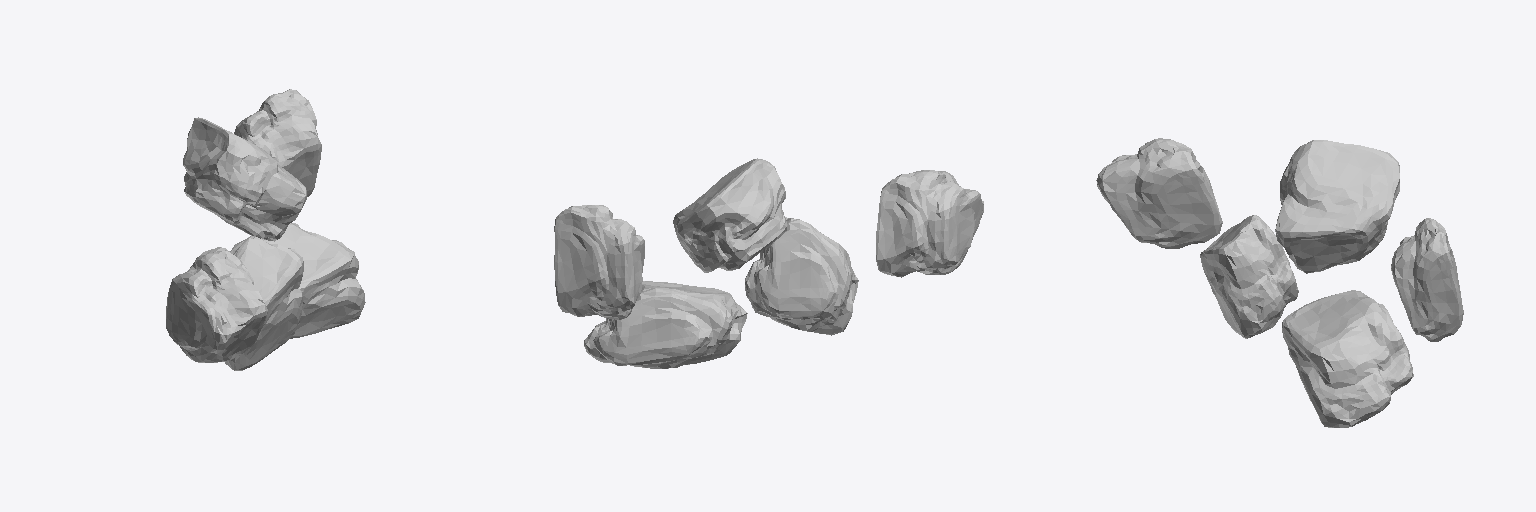
Rendered from tail.obj.
The picture shows the model from 3 angles: view 1: azimuth 30°, elevation 25°; view 2: azimuth 150°, elevation 25°; view 3: azimuth 270°, elevation 25°; orthographic projection.
Parts seen in each view (by area): view 1: rock.003, rock, rock.002, rock.004, rock.001; view 2: rock.002, rock, rock.004, rock.001, rock.003; view 3: rock.003, rock.002, rock, rock.004, rock.001.
Part boxes in pixels (x1,y1,x2,y2): rock.003: (183, 117, 306, 241); rock: (166, 247, 267, 362); rock.002: (230, 223, 365, 338); rock.004: (225, 236, 303, 370); rock.001: (234, 89, 321, 196); rock.002: (584, 281, 747, 368); rock: (876, 170, 983, 277); rock.004: (745, 217, 858, 335); rock.001: (554, 205, 644, 319); rock.003: (673, 158, 786, 272); rock.003: (1275, 140, 1399, 273); rock.002: (1282, 290, 1413, 427); rock: (1096, 138, 1222, 248); rock.004: (1200, 215, 1298, 338); rock.001: (1391, 218, 1463, 341).
Size of the model in its own units: 34.33 by 26.69 by 39.88.